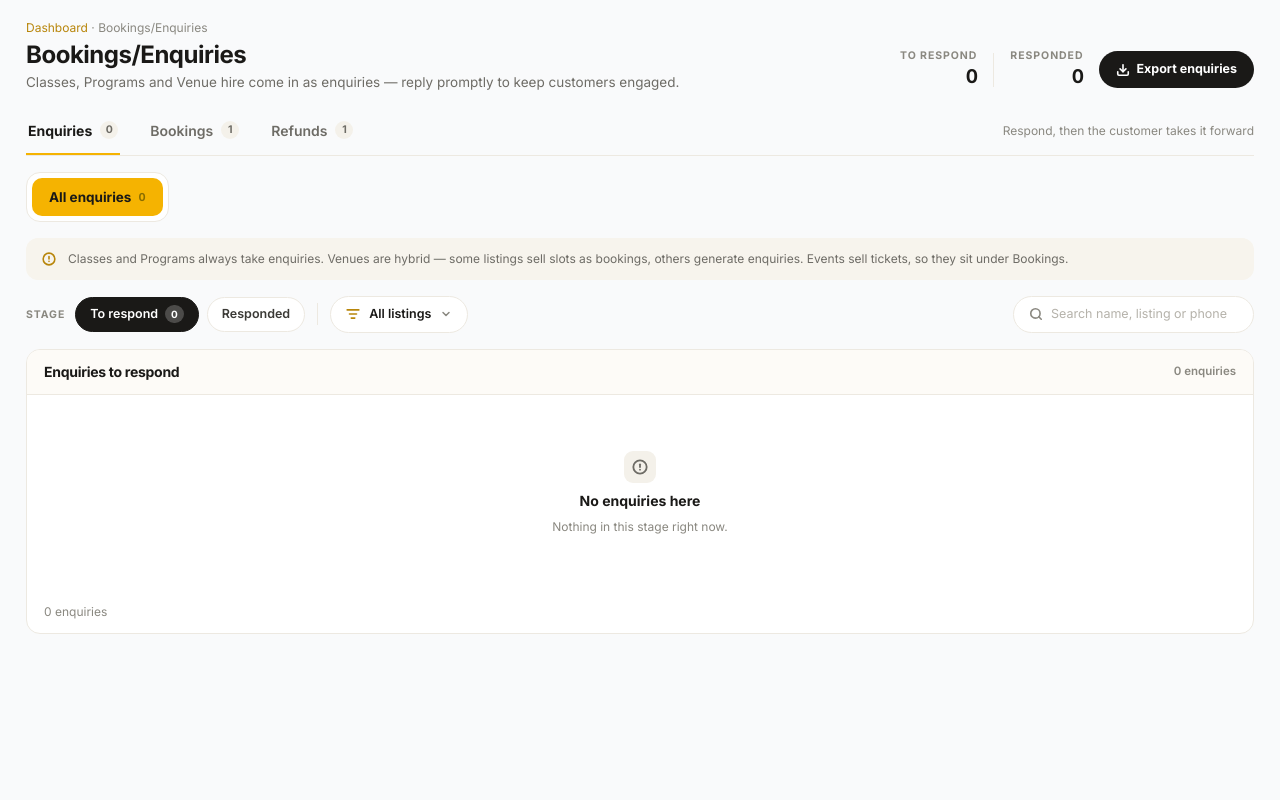
Test: Bookings/Enquiries — Refunds tab › the Bookings tab badge also follows the refund, not the payment
The width and height of the screenshot is (1280, 800).
Click the button "Bookings 1" at (195, 131), box [148,108,241,155]
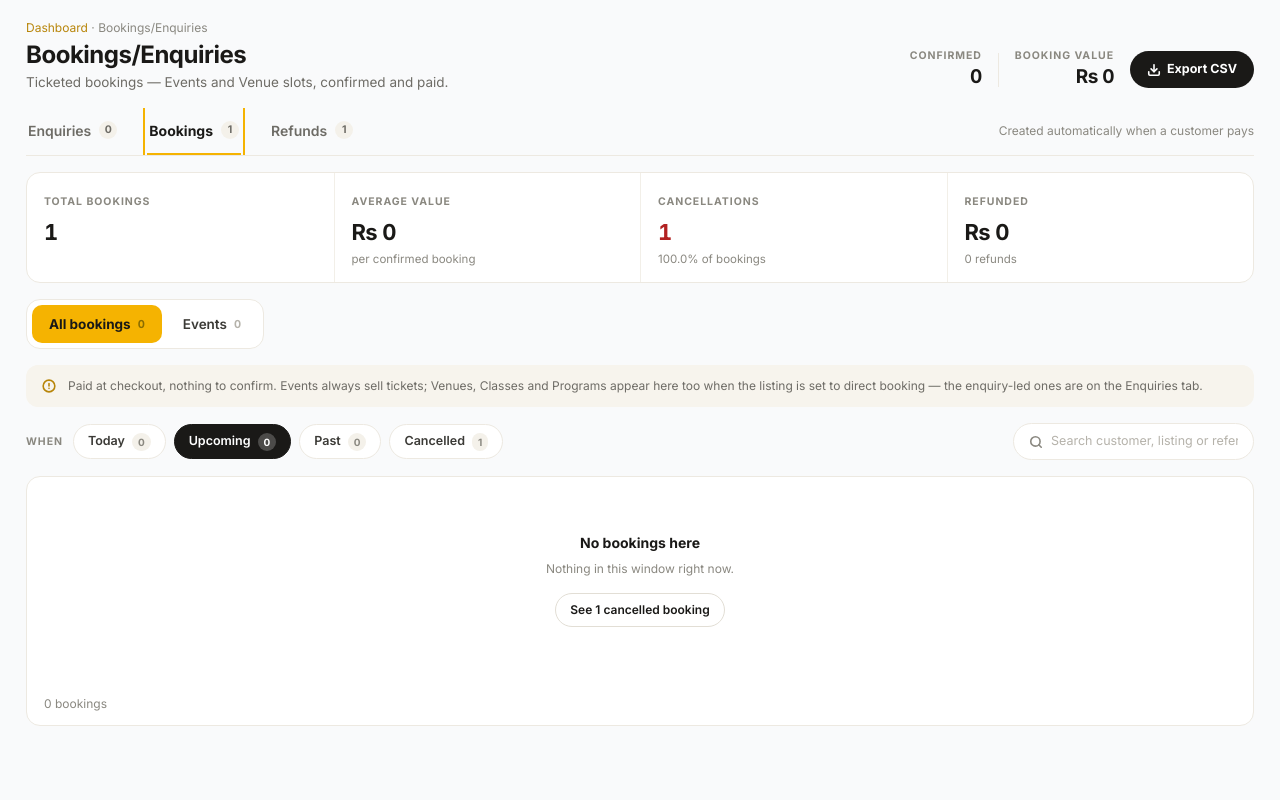
Click the button "See 1 cancelled booking" at (640, 610), box [555,593,725,627]
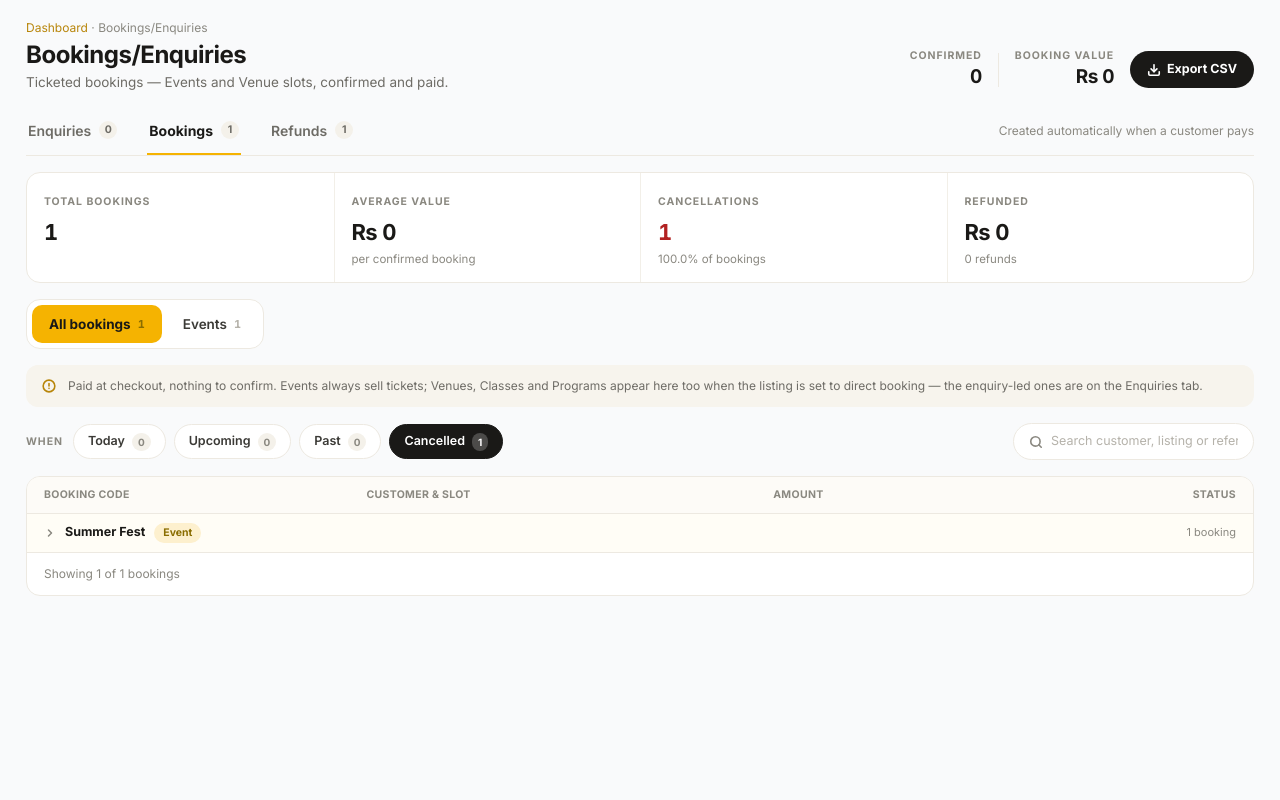
Click the button "Summer Fest Event 1 booking" at (105, 532), box [27,514,1253,553]
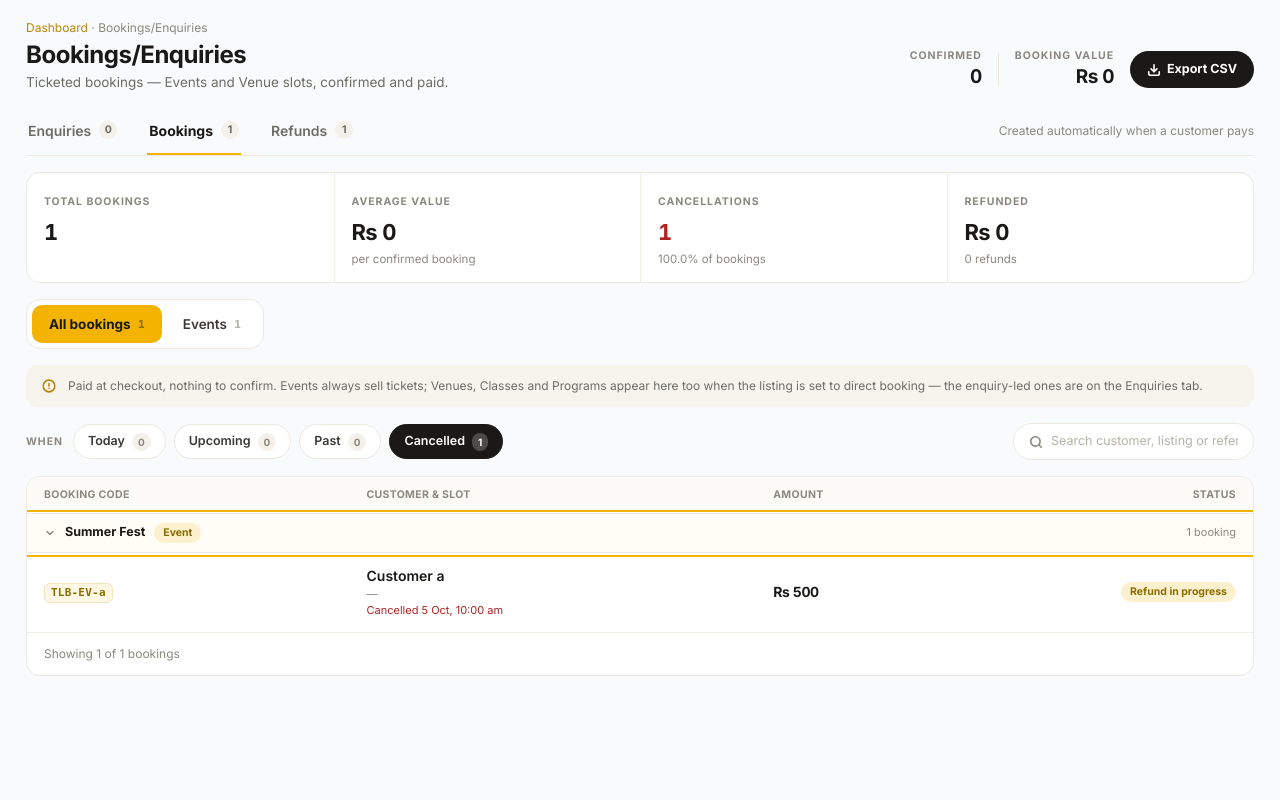
Expected: the text "Refund in progress" is shown, [1121,582,1236,602]
